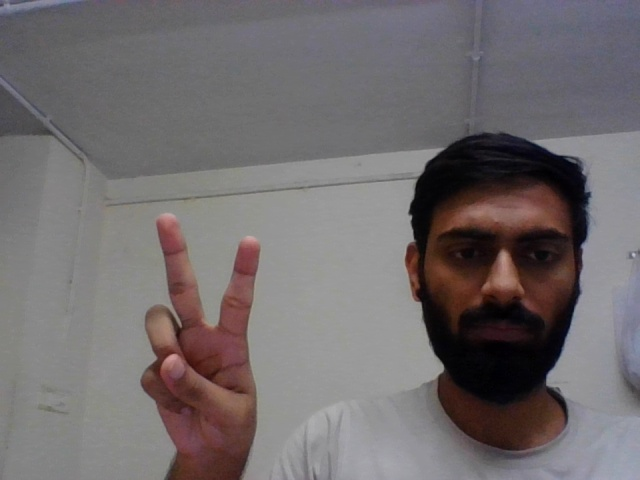V: (131, 205, 270, 480)
